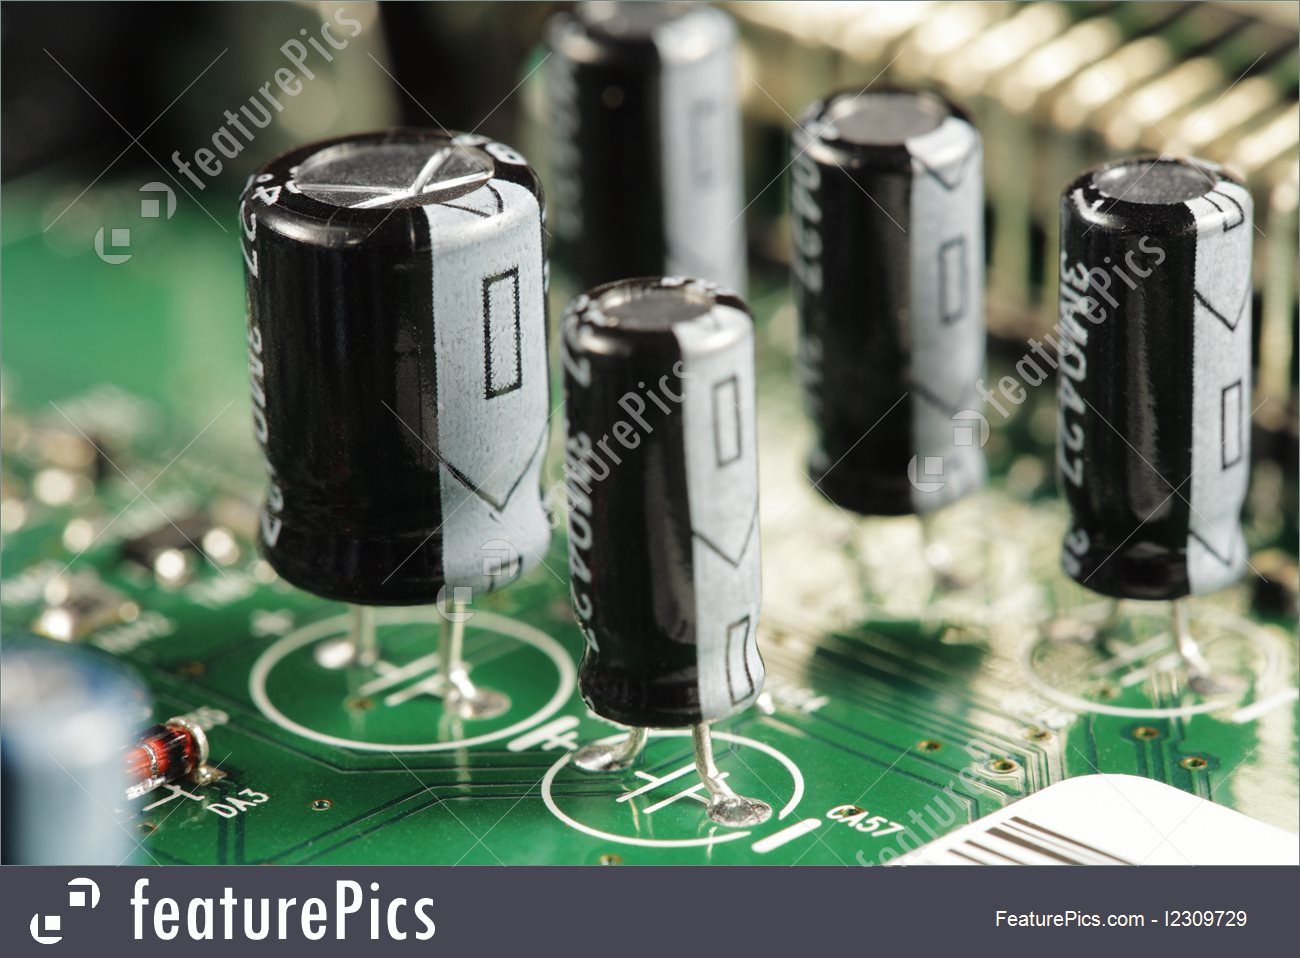capacitor: (198, 82, 568, 662), (539, 234, 797, 767), (1030, 122, 1277, 662), (782, 74, 1037, 567)
